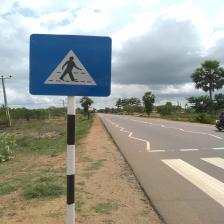blueboard: (28, 33, 112, 97)
crossing: (97, 112, 223, 208)
